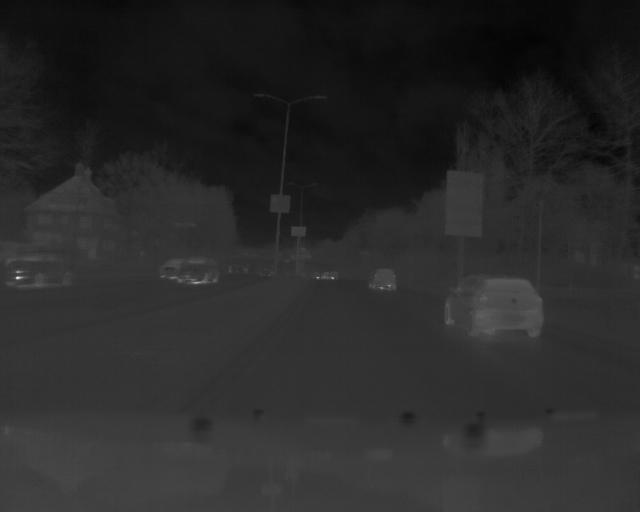car: (440, 276, 547, 340), (6, 252, 76, 291), (177, 253, 220, 286), (365, 267, 400, 292), (156, 255, 181, 282)
